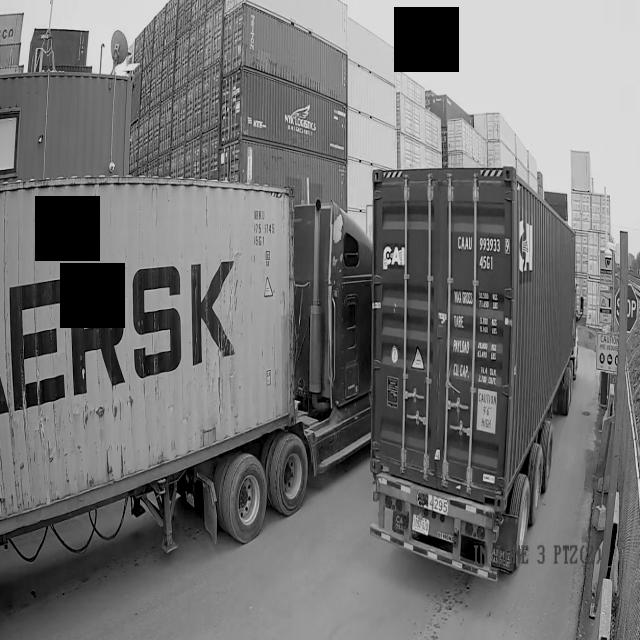container_company_logo: (382, 239, 407, 270)
container_number: (456, 230, 511, 279), (246, 202, 282, 254)
license_plate: (412, 511, 433, 534)
truck_with_container: (0, 175, 381, 552), (370, 166, 578, 580)
